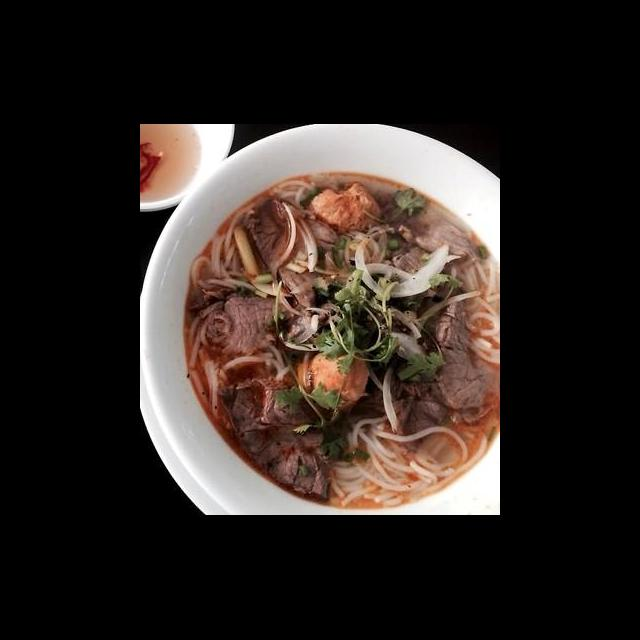bun: (320, 408, 491, 509), (174, 311, 295, 418), (178, 198, 271, 300), (444, 248, 500, 370)
bun bo: (173, 177, 480, 490)
thit bo: (213, 374, 335, 508), (240, 192, 361, 326), (413, 294, 500, 426), (185, 286, 317, 362), (369, 216, 480, 302), (380, 358, 459, 457)
